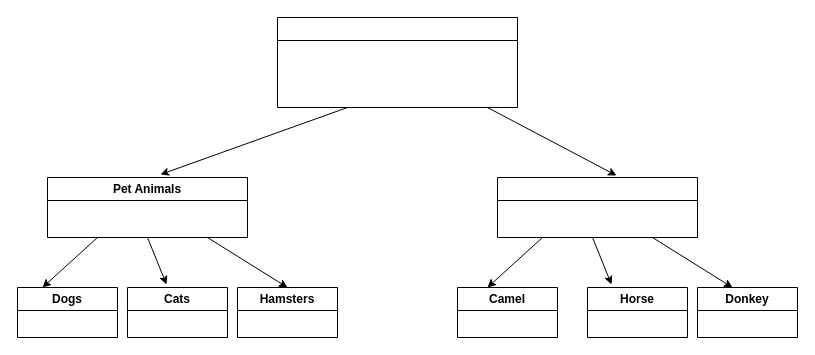
Some shapes in this 815 by 355 pixel diagram are drawn without their labels. Here are the shapes that lost their labels. From the top down, the centre of each, then its label:
At (x=397, y=62): "Animals".
At (x=597, y=207): "Pack Animals".
